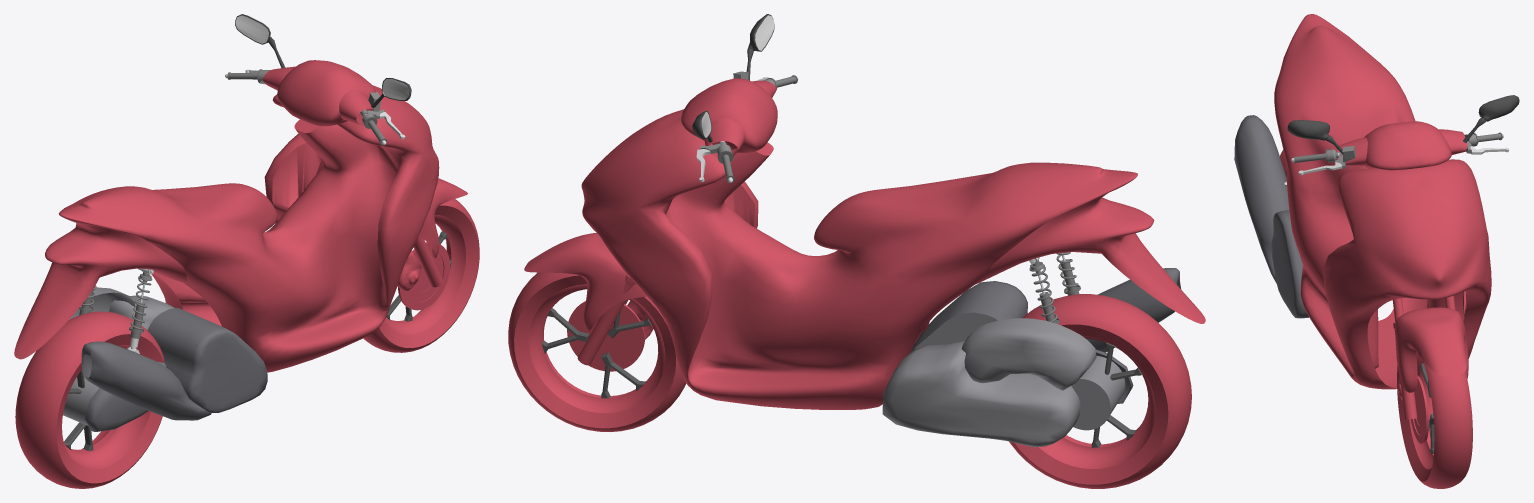
File: yamaha-aerox-classic.glb
The picture shows the model from 3 angles, left to right: view 1: azimuth 30°, elevation 25°; view 2: azimuth 150°, elevation 25°; view 3: azimuth 270°, elevation 25°; orthographic projection. The views are drawn at different scales.
Visible parts, largest first — view 1: Geom3D (×18); view 2: Geom3D (×15), Geom3D_Component#11; view 3: Geom3D (×11).
Boxes of the visible parts, bbox=[...] form: Geom3D (×18): bbox=[14, 15, 479, 488]; Geom3D (×15): bbox=[508, 78, 1205, 488]; Geom3D_Component#11: bbox=[914, 312, 997, 349]; Geom3D (×11): bbox=[1234, 14, 1519, 488].
Size of the model in its own units: 1.92 by 1.14 by 0.907.
